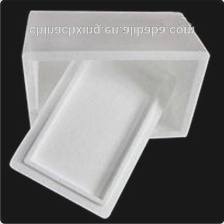foam_box: (6, 6, 212, 221)
